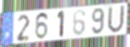1: (56, 10, 66, 39)
2: (16, 14, 31, 43)
6: (35, 11, 51, 41), (72, 9, 87, 37)
9: (91, 7, 106, 35)
U: (107, 5, 126, 35)
